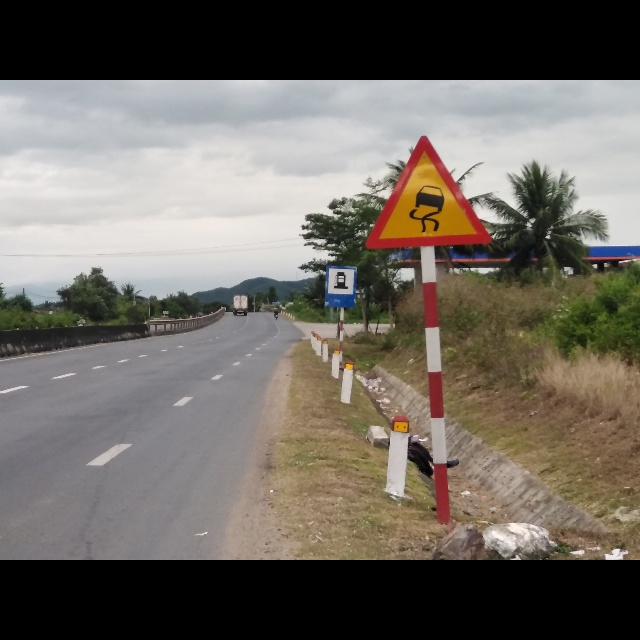Đường trơn trượt: (361, 130, 488, 249)
